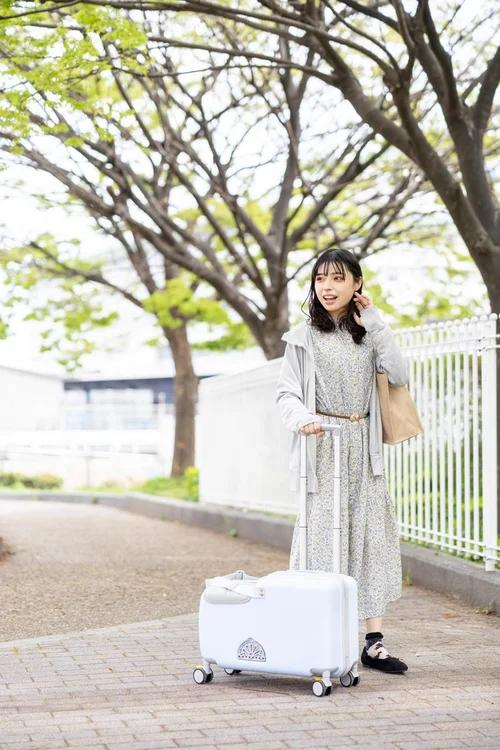human: (197, 246, 414, 691)
